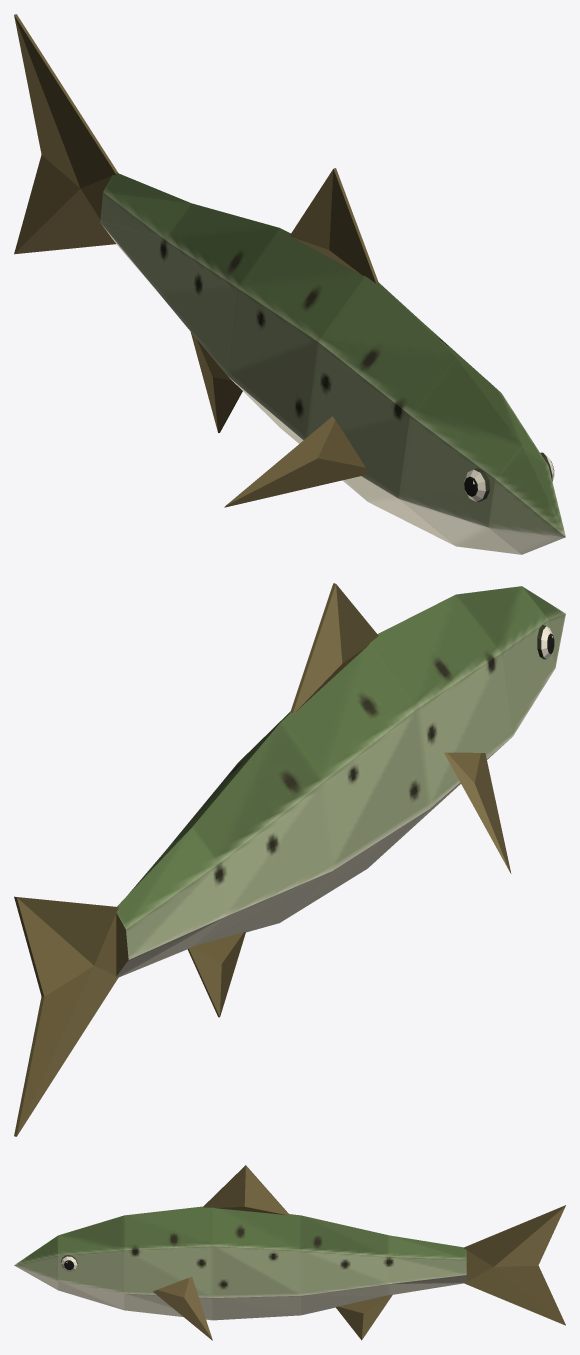
File: Trout.fbx
3 renders of one model, top to bottom at view 1: azimuth 30°, elevation 25°; view 2: azimuth 150°, elevation 25°; view 3: azimuth 270°, elevation 25°, orthographic. The views are drawn at different scales.
Visible parts, largest first — view 1: Trout; view 2: Trout; view 3: Trout.
Part boxes in pixels (bbox=[...]): Trout: bbox=[14, 14, 565, 554]; Trout: bbox=[14, 583, 565, 1136]; Trout: bbox=[14, 1165, 565, 1340].
Size of the model in its own units: 0.1447 by 0.168 by 0.48.
Materials: 1 (1 with a texture image).
